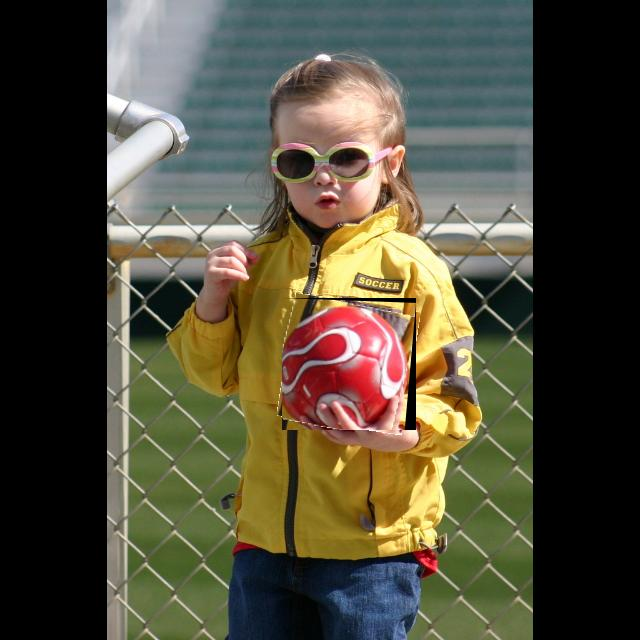Football: (282, 298, 416, 430)
